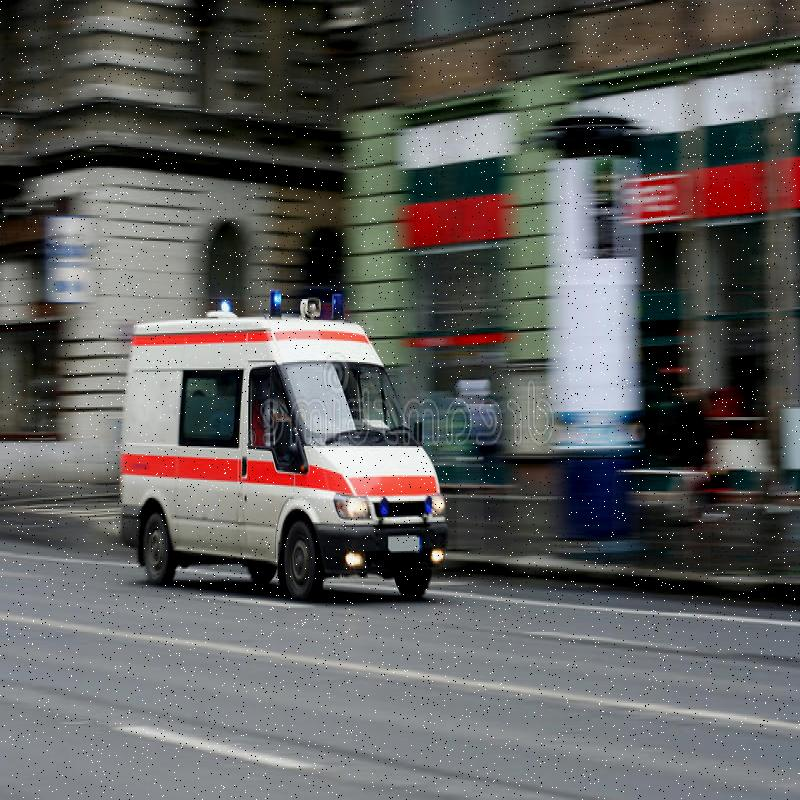ambulance: (110, 251, 458, 609)
